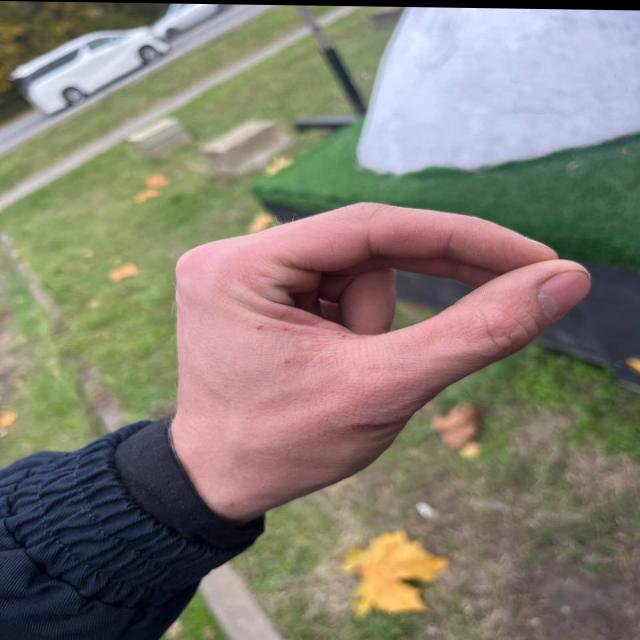ch: (142, 152, 628, 463)
